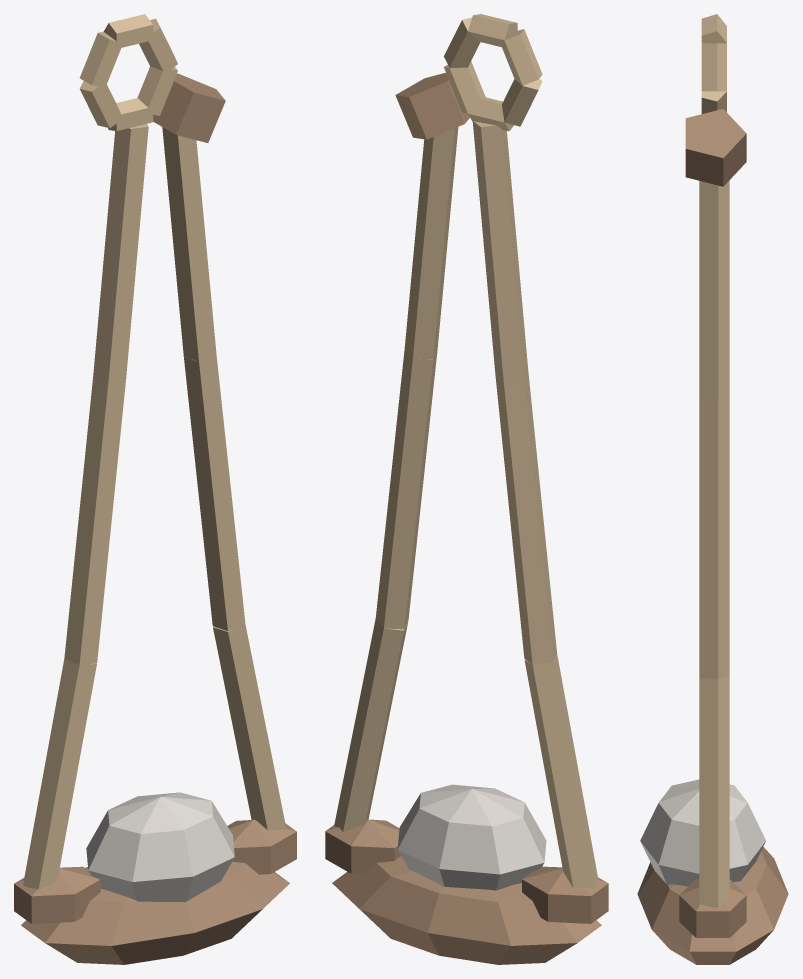
File: sling.glb
3 renders of one model, left to right at view 1: azimuth 30°, elevation 25°; view 2: azimuth 150°, elevation 25°; view 3: azimuth 270°, elevation 25°, orthographic. The views are drawn at different scales.
Parts seen in each view (by area): view 1: sling_cord, sling_leather, sling_stone; view 2: sling_cord, sling_leather, sling_stone; view 3: sling_cord, sling_leather, sling_stone.
Part boxes in pixels (left/top/right/bottom): sling_cord: left=23, top=14, right=286, bottom=889; sling_leather: left=14, top=73, right=296, bottom=964; sling_stone: left=86, top=792, right=234, bottom=902; sling_cord: left=334, top=14, right=598, bottom=889; sling_leather: left=325, top=72, right=608, bottom=964; sling_stone: left=397, top=784, right=546, bottom=890; sling_cord: left=699, top=14, right=729, bottom=907; sling_leather: left=637, top=109, right=788, bottom=964; sling_stone: left=640, top=779, right=765, bottom=886.
Size of the model in its own units: 0.0703 by 0.2367 by 0.036.
